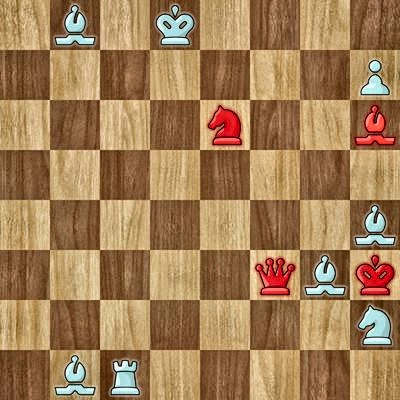black-bishop: (350, 100, 400, 150)
black-king: (350, 250, 400, 300)
black-knight: (200, 100, 250, 150)
black-queen: (250, 250, 300, 300)
white-bishop: (50, 0, 100, 50), (350, 200, 400, 250), (300, 250, 350, 300), (50, 350, 100, 400)
white-king: (150, 0, 200, 50)
white-knight: (350, 300, 400, 350)
white-pawn: (350, 50, 400, 100)
white-rook: (100, 350, 150, 400)
